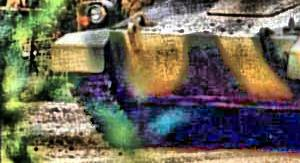tanks: (53, 1, 300, 112)
